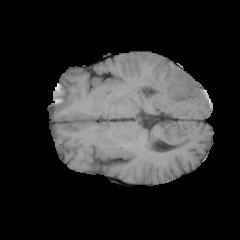glioma: (143, 72, 196, 107)
